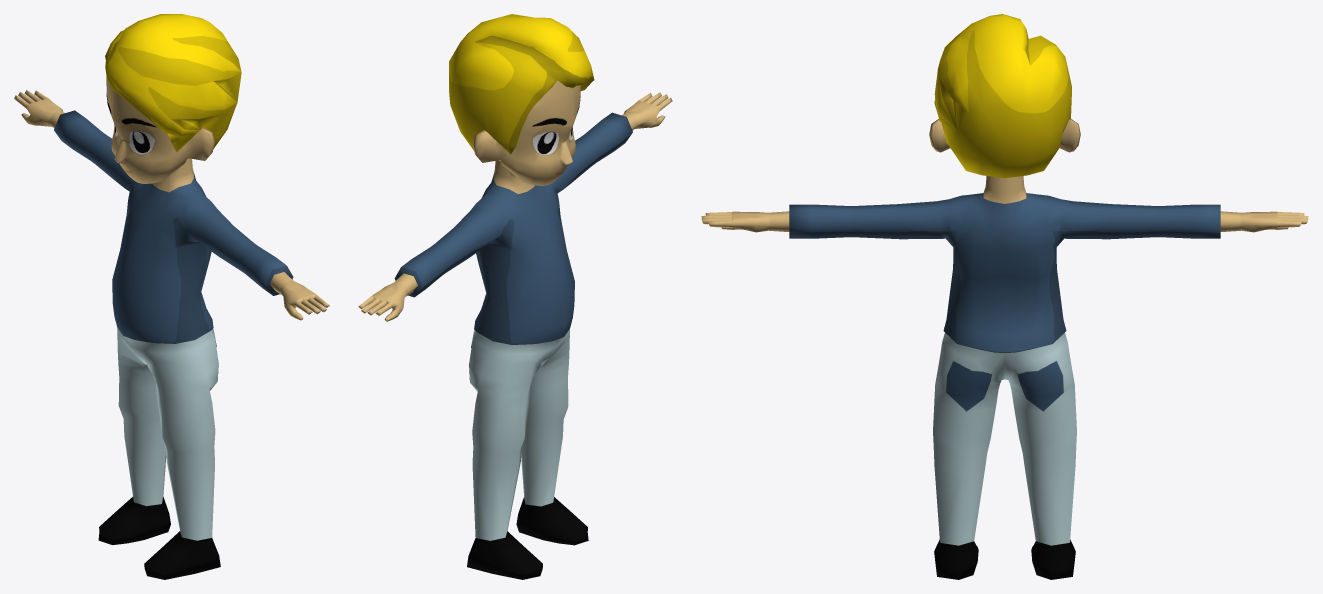
The model's file is boy_4.fbx.
3 renders of one model, left to right at view 1: azimuth 30°, elevation 25°; view 2: azimuth 150°, elevation 25°; view 3: azimuth 270°, elevation 25°, orthographic. The views are drawn at different scales.
Visible parts, largest first — view 1: boy4; view 2: boy4; view 3: boy4.
Boxes of the visible parts, <box> form: boy4: <box>14,14,329,579</box>; boy4: <box>358,14,672,579</box>; boy4: <box>701,14,1308,579</box>.
Bounding box in the file's own units: 36.02 × 147 × 150.
Materials: 1 (1 with a texture image).
